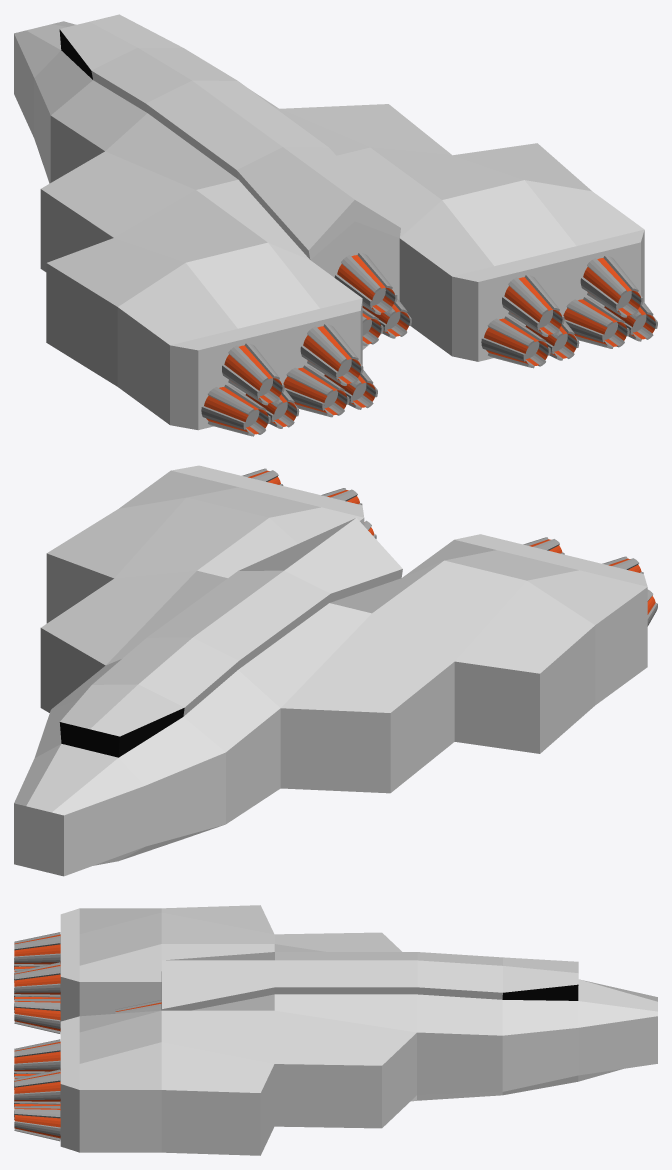
The model's file is ShipL1.fbx.
3 renders of one model, top to bottom at view 1: azimuth 30°, elevation 25°; view 2: azimuth 150°, elevation 25°; view 3: azimuth 270°, elevation 25°, orthographic. The views are drawn at different scales.
Parts seen in each view (by area): view 1: Cube, Engine 2.001, Engine 2.010, Engine 2.003, Engine 2.009, Engine 2.002, Engine 2.008, Engine 2.004, Engine 2.007, Engine 2.014, Engine 2.005, Engine 2 (+3 smaller); view 2: Cube; view 3: Cube, Engine 2.003, Engine 2.008, Engine 2.006, Engine 2.005, Engine 2.002, Engine 2.009, Engine 2.014.
Boxes of the visible parts, box(x1,y1,x2,y2) form: Cube: box(14, 14, 644, 430); Engine 2.001: box(201, 384, 270, 436); Engine 2.010: box(481, 316, 550, 368); Engine 2.003: box(300, 324, 363, 385); Engine 2.009: box(502, 275, 564, 336); Engine 2.002: box(222, 343, 284, 405); Engine 2.008: box(580, 255, 643, 317); Engine 2.004: box(283, 365, 349, 417); Engine 2.007: box(563, 297, 629, 348); Engine 2.014: box(334, 252, 397, 314); Engine 2.005: box(324, 370, 377, 409); Engine 2: box(245, 389, 299, 428); Cube: box(14, 465, 647, 876); Cube: box(60, 905, 657, 1155); Engine 2.003: box(14, 962, 60, 997); Engine 2.008: box(14, 1069, 60, 1104); Engine 2.006: box(14, 1106, 60, 1141); Engine 2.005: box(14, 999, 60, 1033); Engine 2.002: box(14, 932, 60, 966); Engine 2.009: box(14, 1039, 60, 1073); Engine 2.014: box(115, 1000, 161, 1013).
Bounding box in the file's own units: 758 × 232 × 1097.
